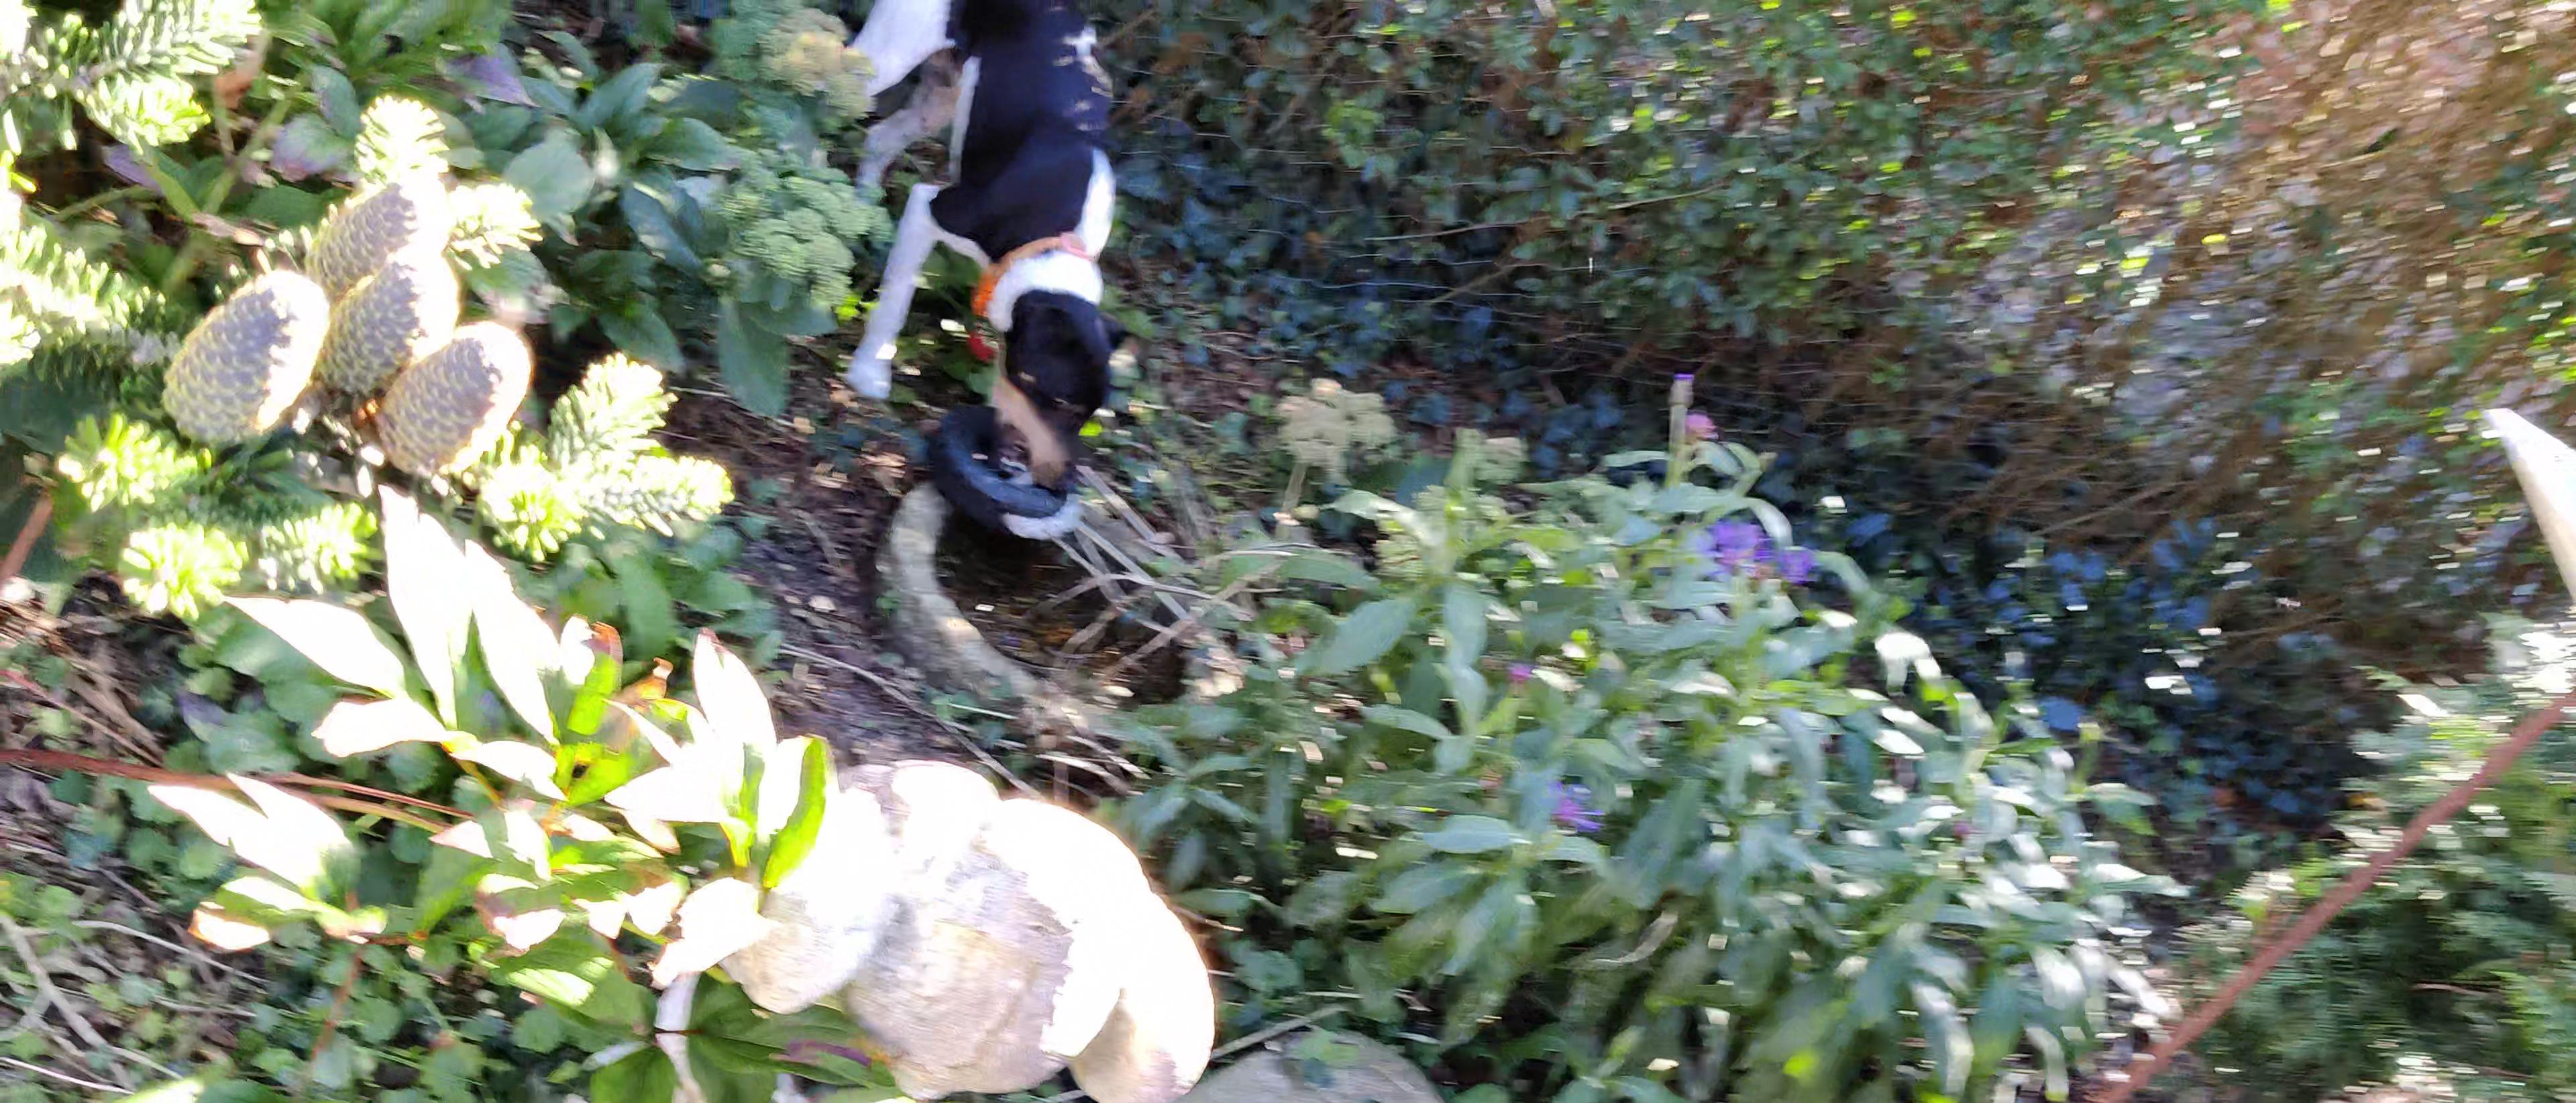Dog: (831, 0, 1124, 498)
